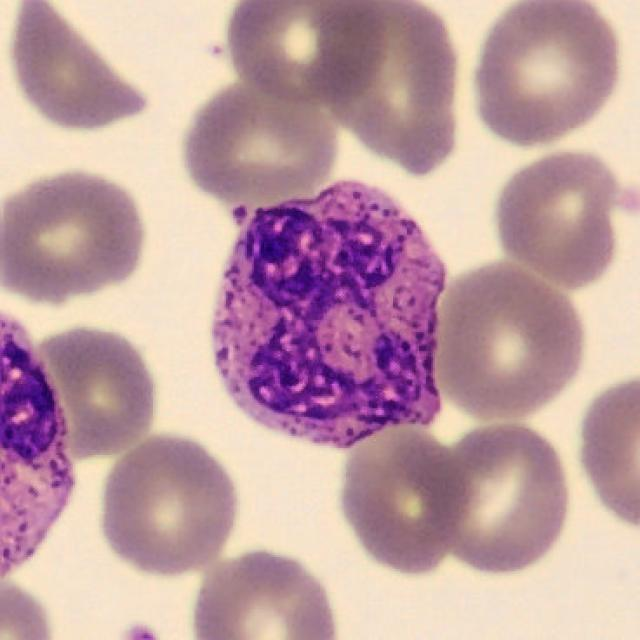Neutrofilo segmentado: (212, 180, 445, 451)
